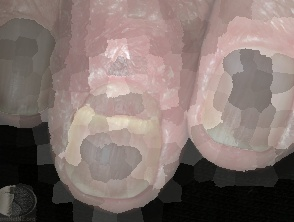Nail_psoriasis: (23, 0, 225, 222), (191, 0, 294, 175), (0, 0, 68, 130)
